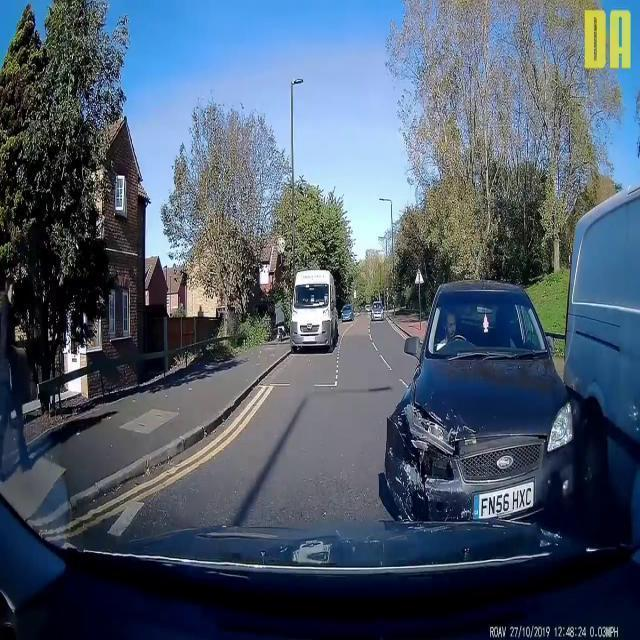accident: (380, 188, 640, 640)
non-accident: (290, 268, 356, 354), (342, 297, 386, 325)
